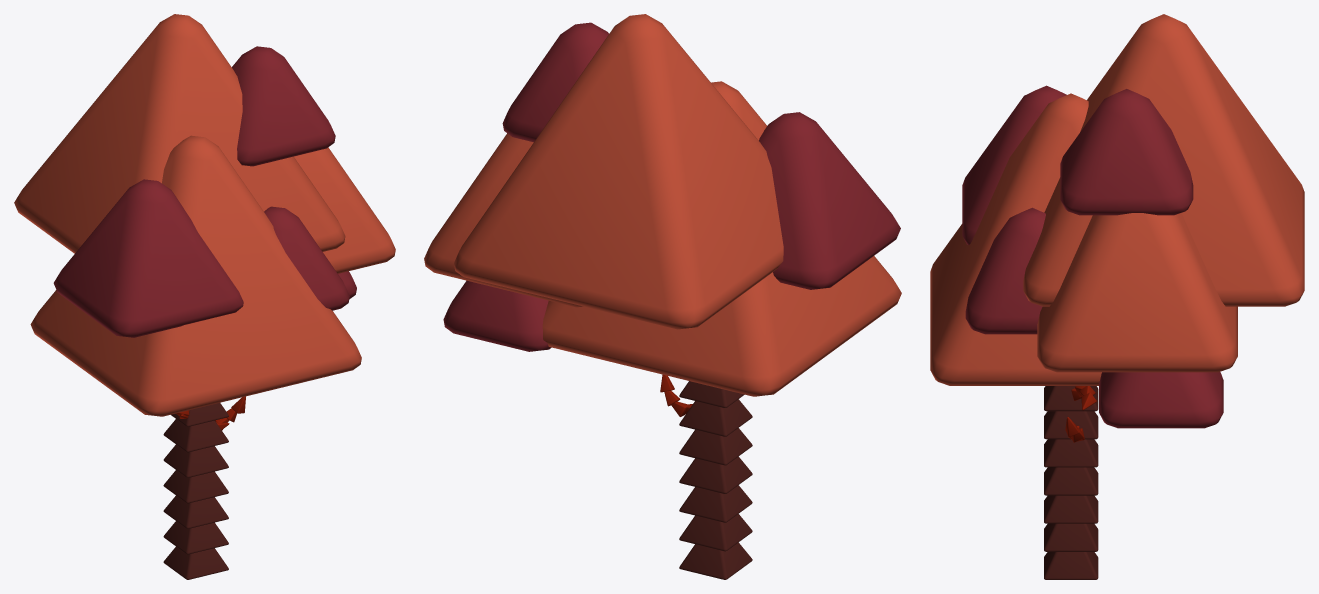
File: arvore_triangular.fbx
3 views of the same model, side by side, from view 1: azimuth 30°, elevation 25°; view 2: azimuth 150°, elevation 25°; view 3: azimuth 270°, elevation 25° (orthographic). The views are drawn at different scales.
Parts seen in each view (by area): view 1: Arvore_triangular_caule; view 2: Arvore_triangular_caule; view 3: Arvore_triangular_caule.
Part boxes in pixels (left/top/right/bottom): Arvore_triangular_caule: left=14, top=14, right=395, bottom=579; Arvore_triangular_caule: left=424, top=14, right=901, bottom=579; Arvore_triangular_caule: left=930, top=14, right=1304, bottom=579.
Bounding box in the file's own units: 721 × 1110 × 668.
